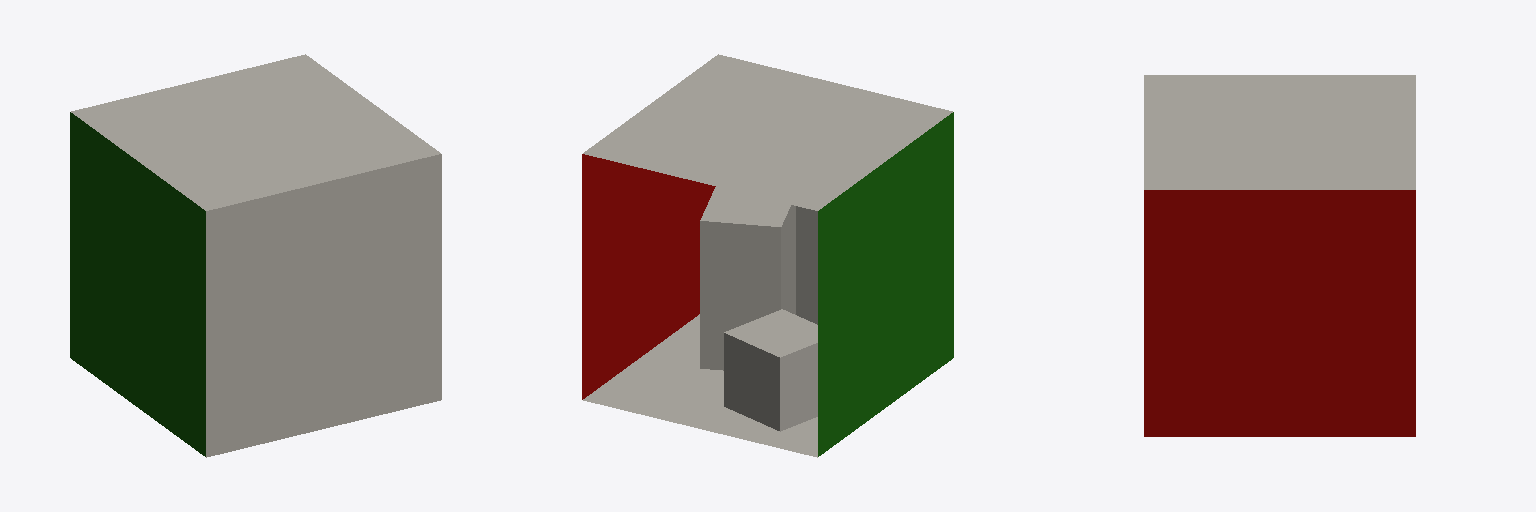
The model's file is cornell.obj.
The picture shows the model from 3 angles: view 1: azimuth 30°, elevation 25°; view 2: azimuth 150°, elevation 25°; view 3: azimuth 270°, elevation 25°; orthographic projection.
Visible parts, largest first — view 1: BackWall, RightWall, Ceiling; view 2: RightWall, Ceiling, LeftWall, TallBox, Floor, ShortBox, BackWall; view 3: LeftWall, Ceiling.
Boxes of the visible parts, x1=… form: BackWall: x1=206, y1=154, x2=441, y2=457; RightWall: x1=70, y1=112, x2=205, y2=456; Ceiling: x1=71, y1=54, x2=440, y2=210; RightWall: x1=818, y1=112, x2=953, y2=456; Ceiling: x1=583, y1=54, x2=952, y2=210; LeftWall: x1=582, y1=154, x2=715, y2=399; TallBox: x1=700, y1=187, x2=795, y2=370; Floor: x1=583, y1=314, x2=817, y2=457; ShortBox: x1=724, y1=309, x2=817, y2=431; BackWall: x1=796, y1=206, x2=817, y2=324; LeftWall: x1=1144, y1=190, x2=1415, y2=436; Ceiling: x1=1144, y1=75, x2=1415, y2=189.
Size of the model in its own units: 2 by 2 by 2.